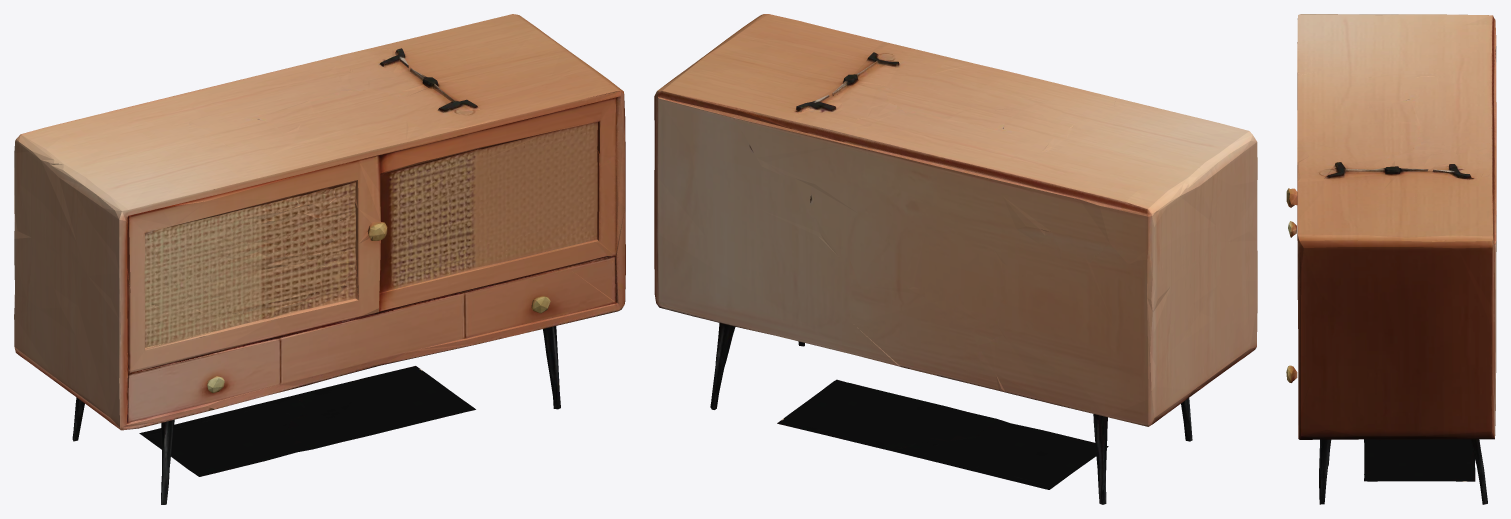
Rendered from sideboard.glb.
The picture shows the model from 3 angles, left to right: view 1: azimuth 30°, elevation 25°; view 2: azimuth 150°, elevation 25°; view 3: azimuth 270°, elevation 25°; orthographic projection. The views are drawn at different scales.
Visible parts, largest first — view 1: world; view 2: world; view 3: world.
Part boxes in pixels (box(x1,y1,x2,y2)): world: box(14, 14, 625, 504); world: box(654, 14, 1257, 504); world: box(1286, 14, 1496, 504).
Size of the model in its own units: 1 by 0.6143 by 0.3896.
1 material, 1 textured.
